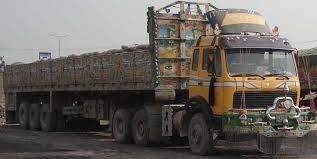truck: (0, 0, 309, 154)
